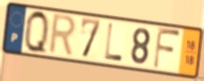7: (80, 17, 102, 61)
8: (131, 27, 151, 66)
F: (152, 26, 182, 71)
L: (104, 22, 124, 63)
Q: (24, 9, 50, 58)
R: (47, 12, 78, 59)
